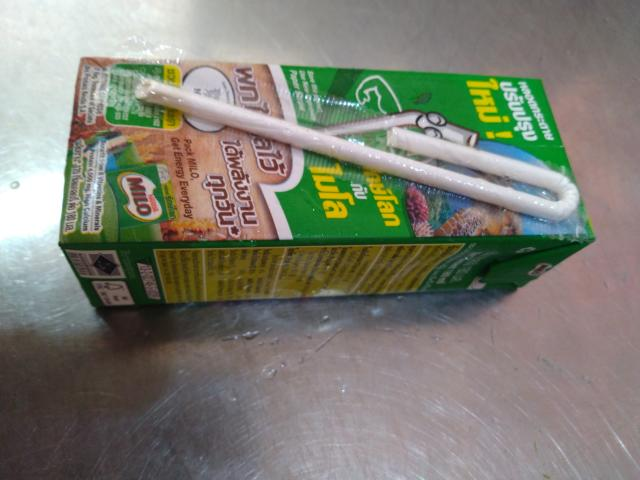drink_box: (36, 48, 624, 322)
